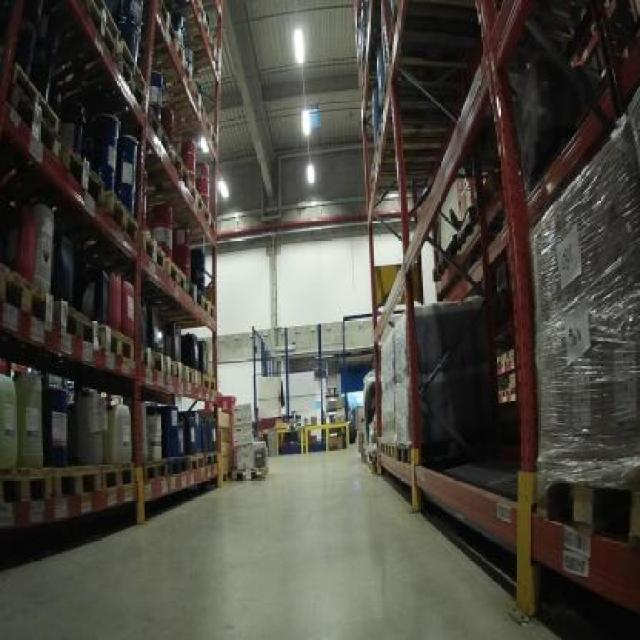ground: (0, 443, 635, 638)
pallet: (1, 58, 139, 249), (536, 468, 638, 548), (0, 461, 138, 512), (138, 345, 221, 393), (0, 261, 55, 325), (142, 448, 224, 490), (411, 430, 490, 472), (56, 301, 100, 349), (375, 436, 420, 469), (103, 323, 135, 363)
